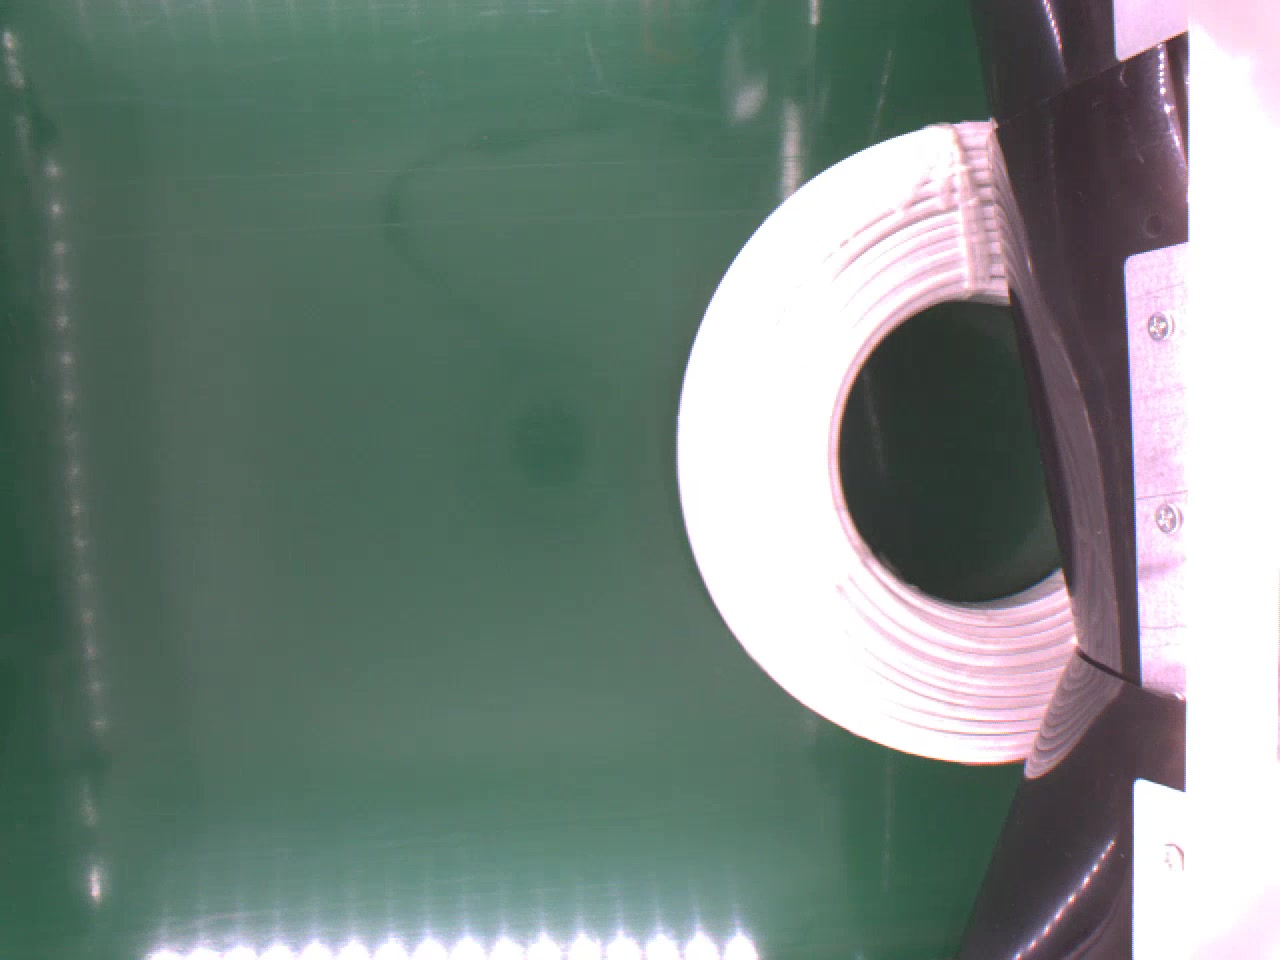white: (676, 115, 1070, 770)
